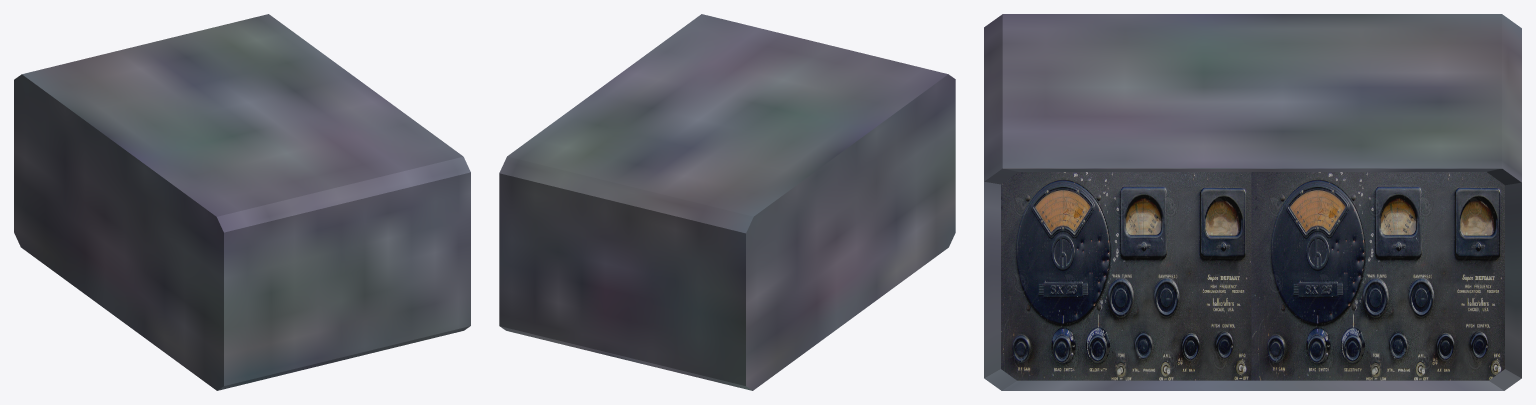
The model's file is radio.fbx.
The picture shows the model from 3 angles, left to right: view 1: azimuth 30°, elevation 25°; view 2: azimuth 150°, elevation 25°; view 3: azimuth 270°, elevation 25°; orthographic projection. The views are drawn at different scales.
Visible parts, largest first — view 1: pCube1; view 2: pCube1; view 3: pCube1.
Part boxes in pixels (bbox=[...]): pCube1: bbox=[14, 14, 470, 390]; pCube1: bbox=[499, 14, 955, 390]; pCube1: bbox=[984, 14, 1521, 390].
Bounding box in the file's own units: 2.01 × 1.35 × 2.96.
